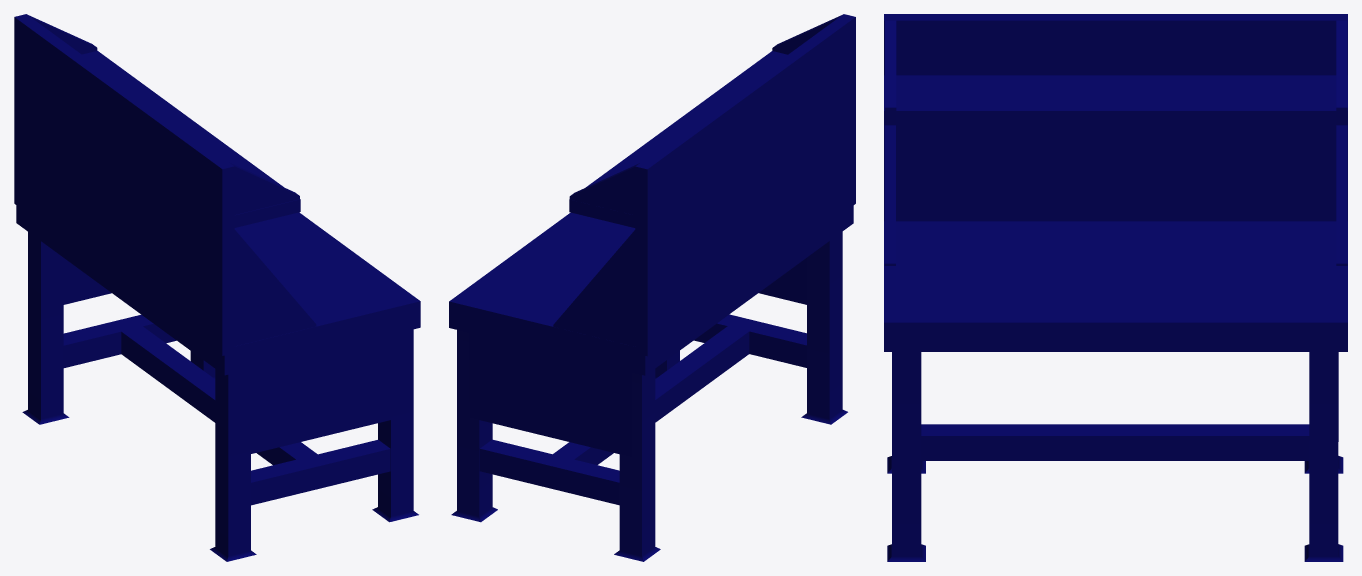
Rendered from Mesa.fbx.
3 views of the same model, side by side, from view 1: azimuth 30°, elevation 25°; view 2: azimuth 150°, elevation 25°; view 3: azimuth 270°, elevation 25° (orthographic). The views are drawn at different scales.
Parts seen in each view (by area): view 1: Mesa; view 2: Mesa; view 3: Mesa.
Part boxes in pixels (x1,y1,x2,y2): Mesa: (14, 14, 420, 561); Mesa: (449, 14, 855, 561); Mesa: (884, 14, 1347, 561).
Bounding box in the file's own units: 2.66 × 5.07 × 4.84.
